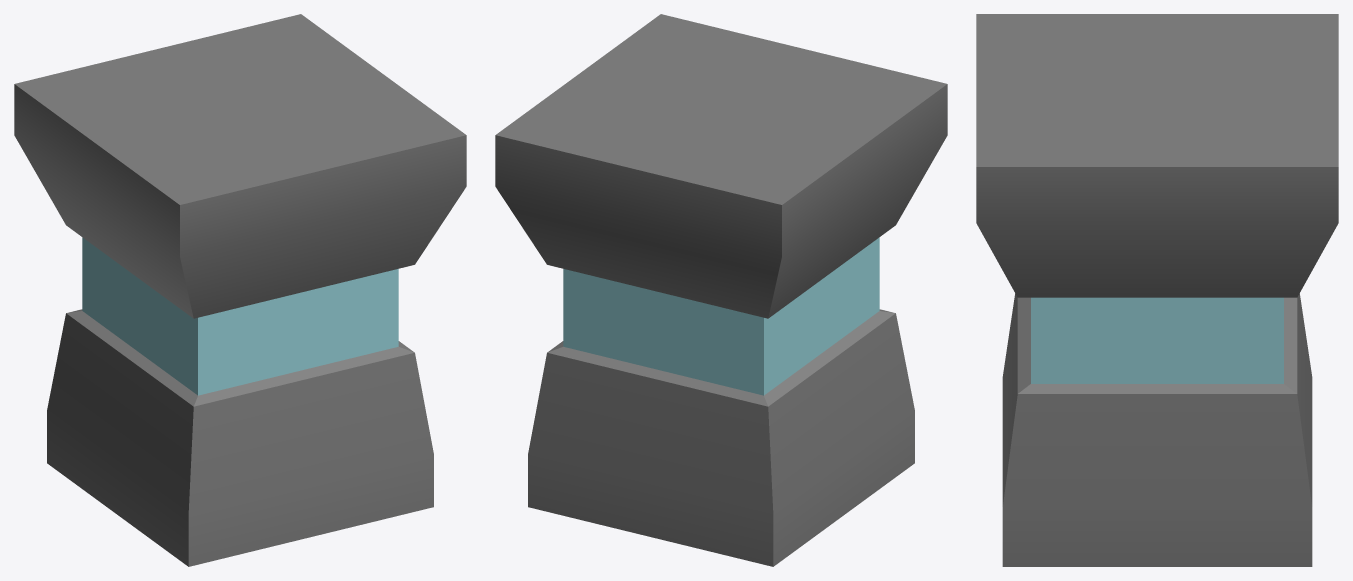
Rendered from SmallPiller.fbx.
The picture shows the model from 3 angles, left to right: view 1: azimuth 30°, elevation 25°; view 2: azimuth 150°, elevation 25°; view 3: azimuth 270°, elevation 25°; orthographic projection. The views are drawn at different scales.
Visible parts, largest first — view 1: small_piller; view 2: small_piller; view 3: small_piller.
Part boxes in pixels (box(x1,y1,x2,y2)): small_piller: box(14, 14, 466, 566); small_piller: box(495, 14, 947, 566); small_piller: box(976, 14, 1338, 566).
Size of the model in its own units: 12.1 by 15.15 by 12.1.
